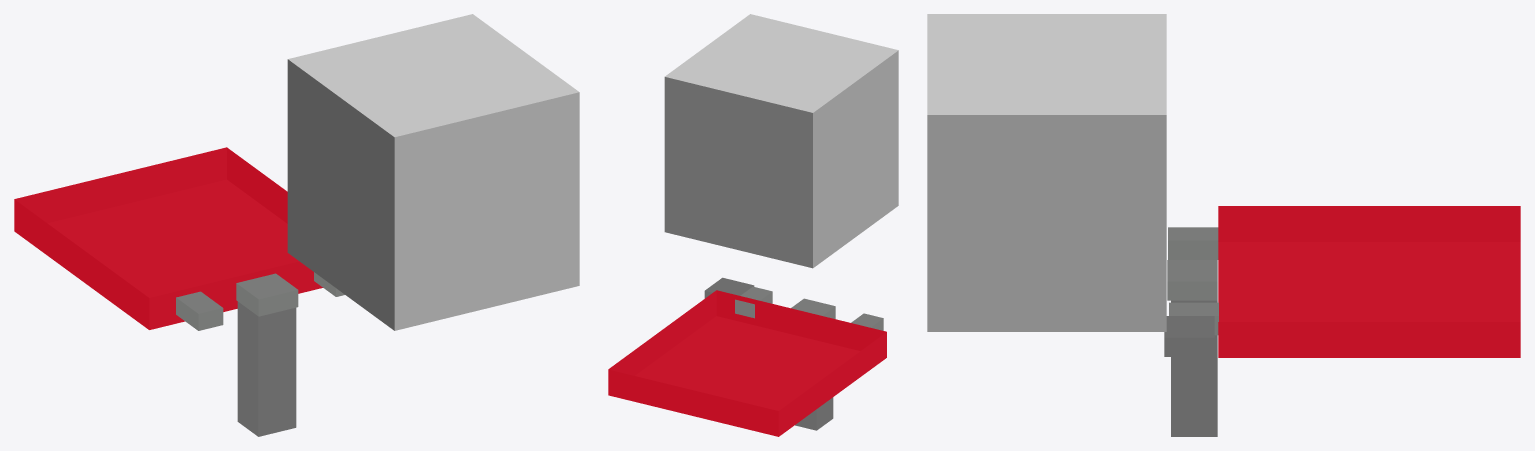
Rendered from good_enough.glb.
3 views of the same model, side by side, from view 1: azimuth 30°, elevation 25°; view 2: azimuth 150°, elevation 25°; view 3: azimuth 270°, elevation 25° (orthographic). The views are drawn at different scales.
Visible parts, largest first — view 1: Cube.008, Cube, Cube.001, Cube.003, Cube.006; view 2: Cube.008, Cube, Cube.004, Cube.001, Cube.005, Cube.003, Cube.006; view 3: Cube.008, Cube, Cube.001, Cube.003, Cube.005, Cube.006, Cube.004.
Boxes of the visible parts, x1,y1,x2,y2 form: Cube.008: (287, 14, 579, 330); Cube: (14, 147, 322, 329); Cube.001: (237, 301, 296, 436); Cube.003: (236, 273, 298, 316); Cube.006: (176, 291, 223, 330); Cube.008: (664, 14, 898, 268); Cube: (608, 290, 886, 436); Cube.004: (735, 286, 772, 318); Cube.001: (795, 397, 833, 430); Cube.005: (704, 277, 754, 298); Cube.003: (791, 298, 835, 318); Cube.006: (851, 313, 883, 330); Cube.008: (927, 14, 1166, 331); Cube: (1218, 206, 1520, 357); Cube.001: (1171, 300, 1217, 436); Cube.003: (1167, 260, 1217, 300); Cube.005: (1164, 316, 1214, 356); Cube.006: (1168, 227, 1218, 259); Cube.004: (1169, 302, 1218, 335).
Size of the model in its own units: 3.25 by 3.85 by 4.96.
